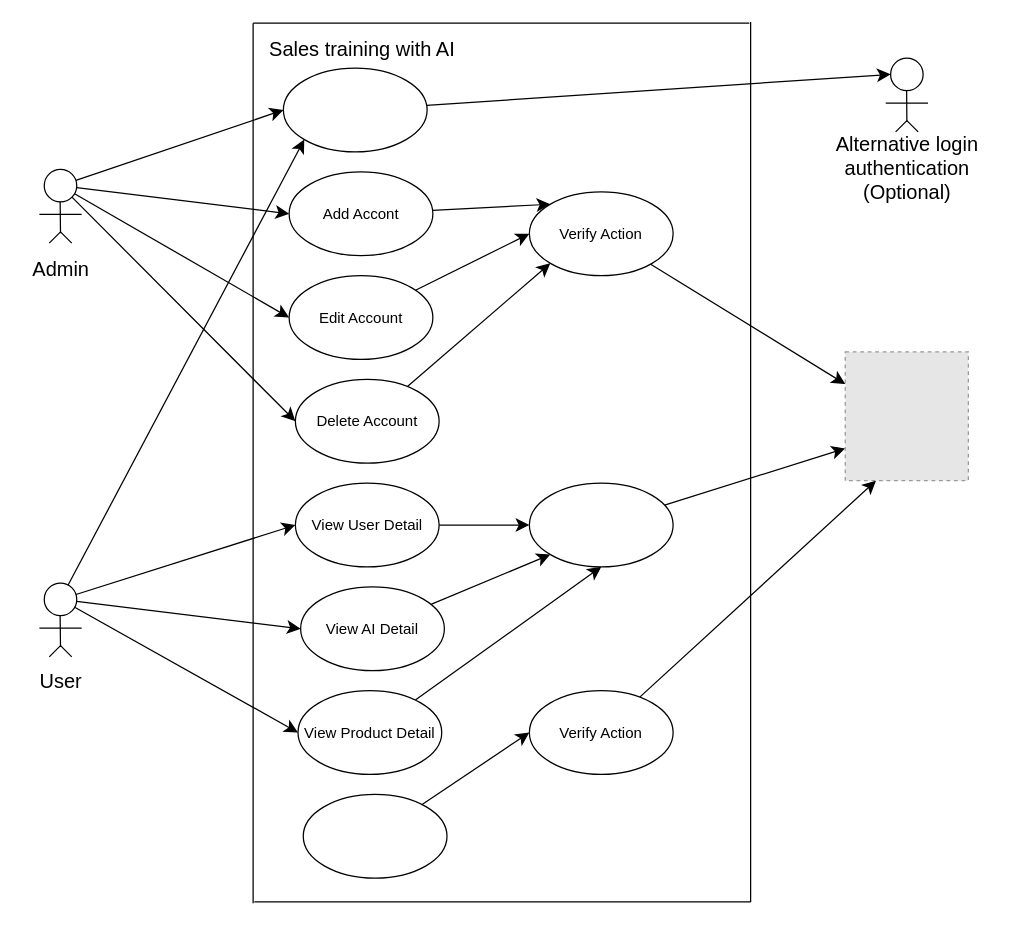
The diagram is 1011 pixels wide and 926 high, and some of its shapes have lost their labels. Grey dashed boxes stand in for pictures. The centre of each missing label's shape, as x and y in pixels:
Create Record: pixel 374 835
Login: pixel 354 109
Retrieve Results: pixel 600 524
